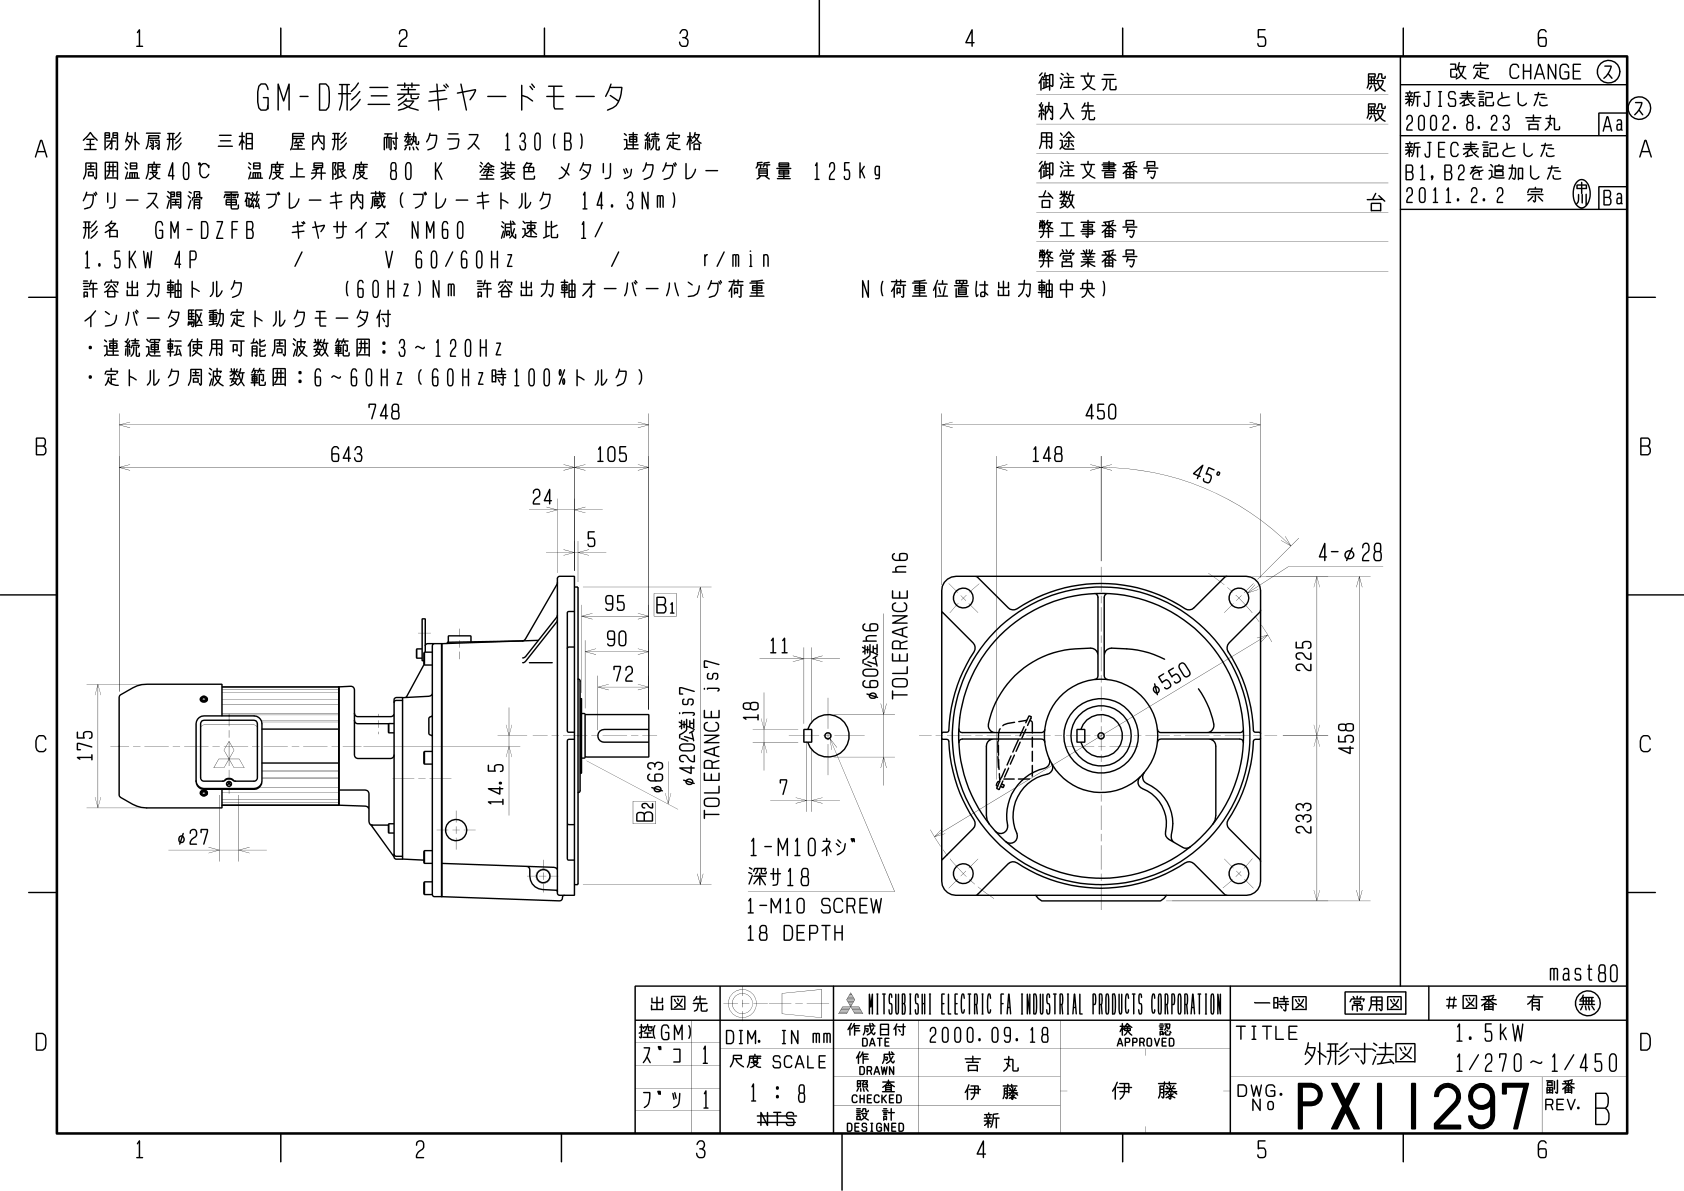GM_D_インバータ屋内_三相_フランジ: (70, 391, 1392, 967)
